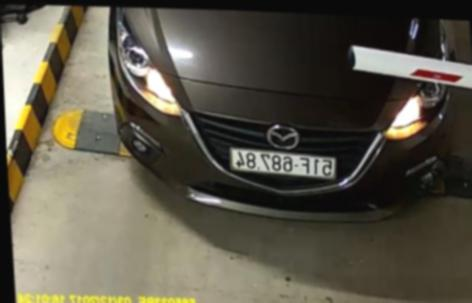License_Plate: (225, 147, 340, 187)
